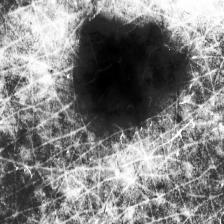Benign Marking or Mole: (79, 23, 184, 122)
